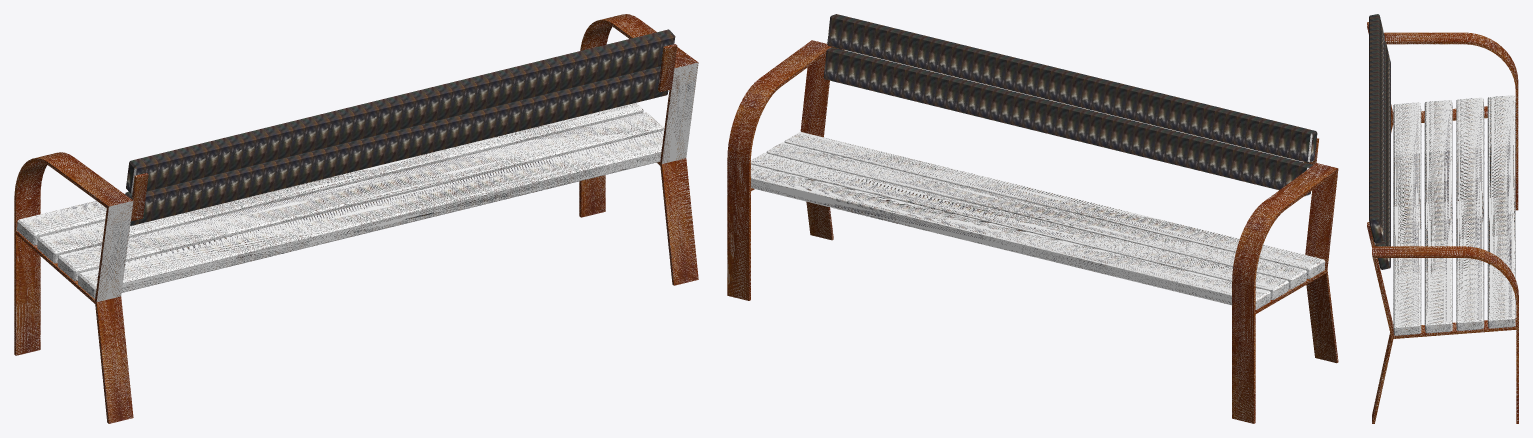
3 views of the same model, side by side, from view 1: azimuth 30°, elevation 25°; view 2: azimuth 150°, elevation 25°; view 3: azimuth 270°, elevation 25° (orthographic). The views are drawn at different scales.
Visible parts, largest first — view 1: mesh3_mesh3-geometry, mesh4_mesh4-geometry, mesh1_mesh1-geometry, mesh5_mesh5-geometry; view 2: mesh3_mesh3-geometry, mesh4_mesh4-geometry, mesh1_mesh1-geometry; view 3: mesh3_mesh3-geometry, mesh1_mesh1-geometry, mesh4_mesh4-geometry.
Boxes of the visible parts, left/top/right/bottom form: mesh3_mesh3-geometry: left=17, top=103, right=663, bottom=298; mesh4_mesh4-geometry: left=125, top=29, right=675, bottom=225; mesh1_mesh1-geometry: left=14, top=14, right=698, bottom=423; mesh5_mesh5-geometry: left=131, top=44, right=677, bottom=221; mesh3_mesh3-geometry: left=751, top=131, right=1325, bottom=310; mesh4_mesh4-geometry: left=823, top=14, right=1317, bottom=196; mesh1_mesh1-geometry: left=727, top=40, right=1338, bottom=423; mesh3_mesh3-geometry: left=1393, top=95, right=1515, bottom=335; mesh1_mesh1-geometry: left=1372, top=32, right=1518, bottom=423; mesh4_mesh4-geometry: left=1369, top=14, right=1390, bottom=269.
Bounding box in the file's own units: 0.8938 × 0.3676 × 0.257.
